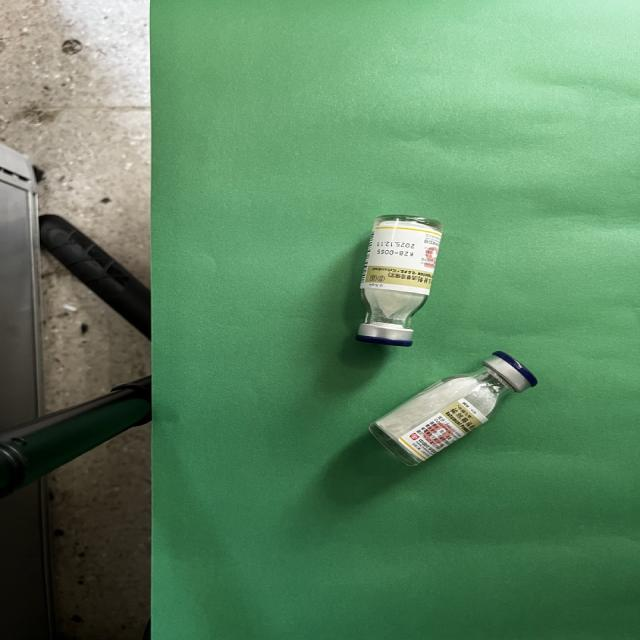Vials: (369, 351, 536, 466), (355, 214, 442, 347), (366, 216, 398, 278), (397, 218, 424, 234)
